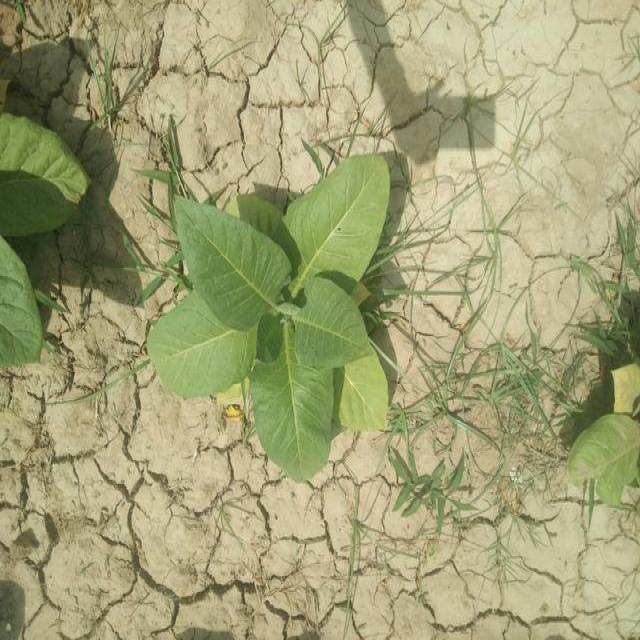crop: (162, 159, 390, 465), (0, 111, 82, 364), (561, 351, 640, 510)
